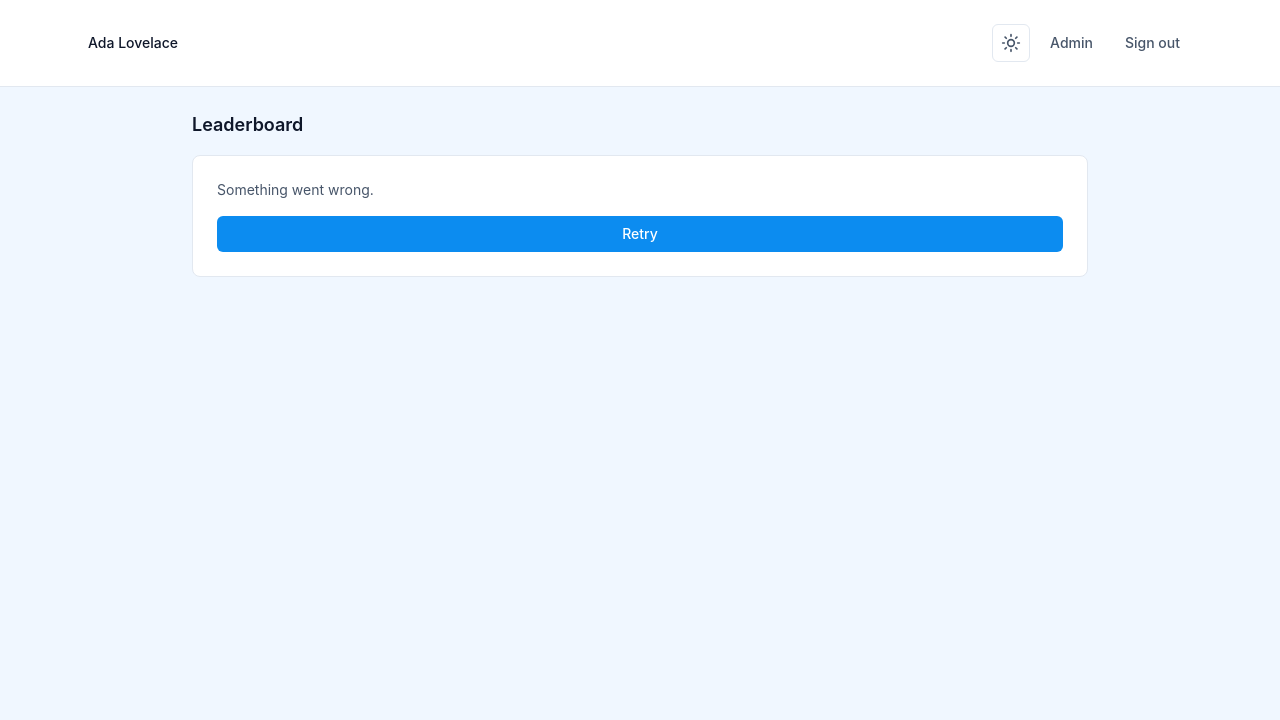
Test: AdminLeaderboard › should_show_error_and_recover_when_retry_clicked
The image size is (1280, 720).
Expected: the message reads "Something went wrong.", x1=217 y1=181 x2=374 y2=198
Click the button "Retry": (640, 234) x1=217 y1=216 x2=1063 y2=252
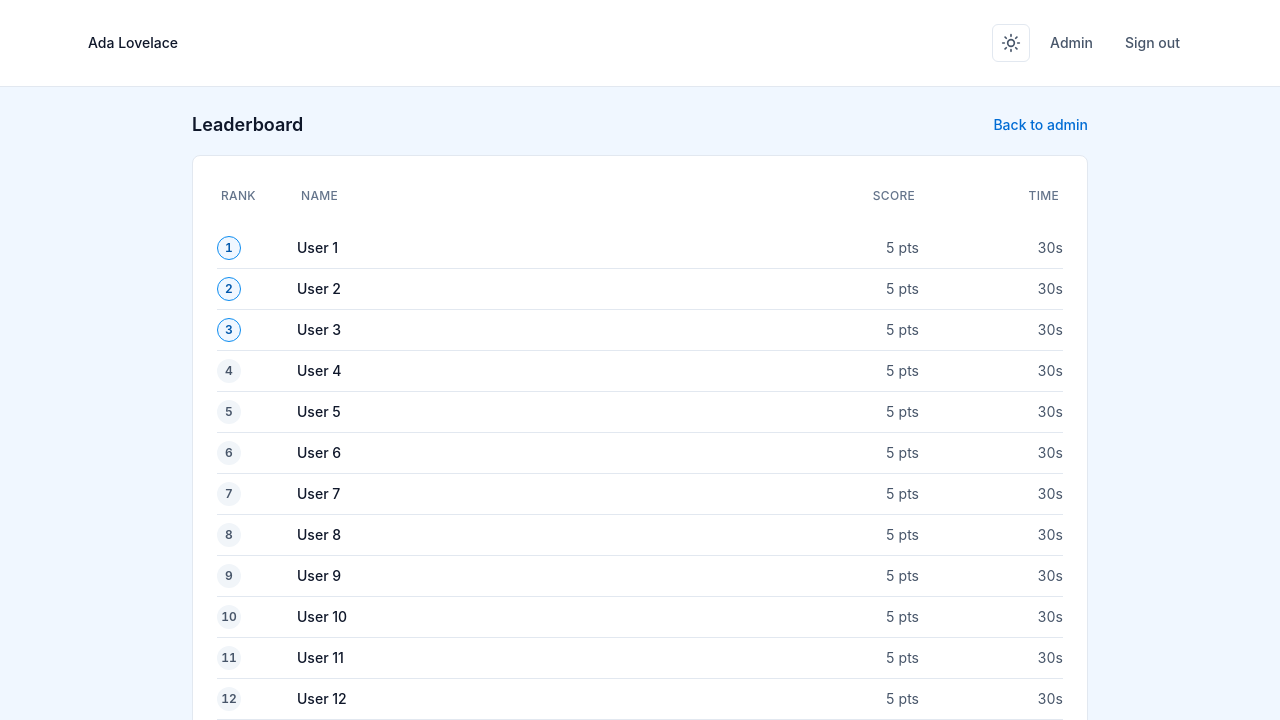
Result: the text "User 1" is shown at x1=297 y1=239 x2=338 y2=256
